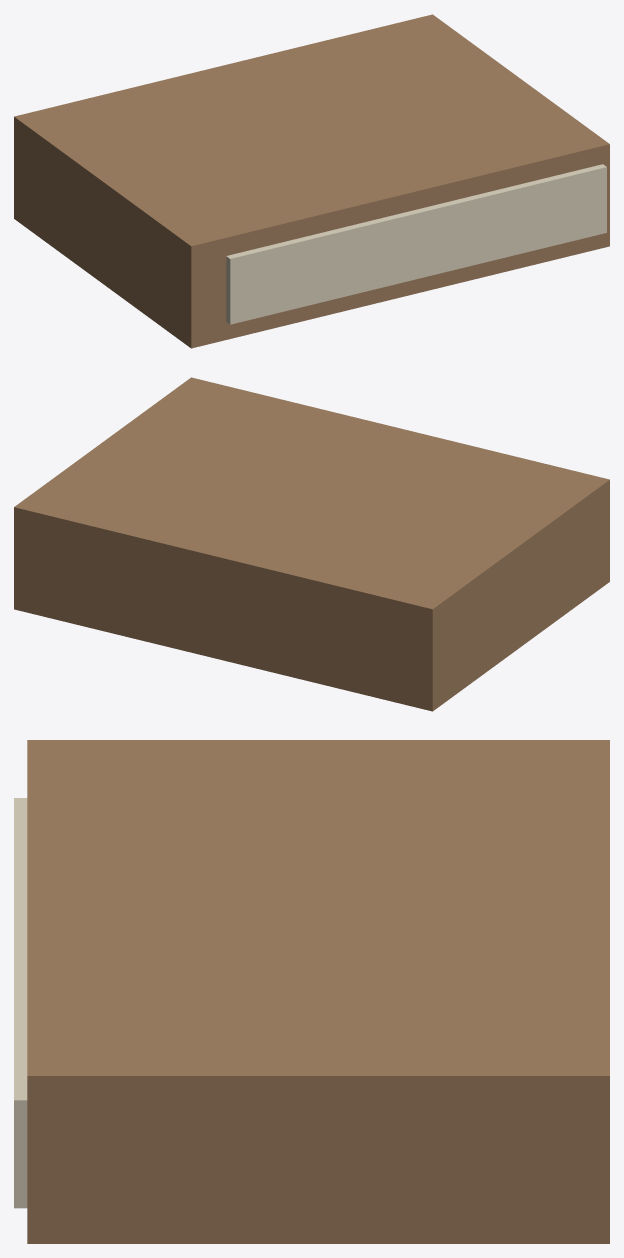
Rendered from item_117_book_s.glb.
3 views of the same model, one above another, from view 1: azimuth 30°, elevation 25°; view 2: azimuth 150°, elevation 25°; view 3: azimuth 270°, elevation 25° (orthographic). The views are drawn at different scales.
Visible parts, largest first — view 1: item_117_book_s; view 2: item_117_book_s; view 3: item_117_book_s.
Boxes of the visible parts, x1=… form: item_117_book_s: x1=14, y1=14, x2=609, y2=348; item_117_book_s: x1=14, y1=377, x2=609, y2=711; item_117_book_s: x1=14, y1=740, x2=609, y2=1243.
Size of the model in its own units: 0.3 by 0.07 by 0.225.
